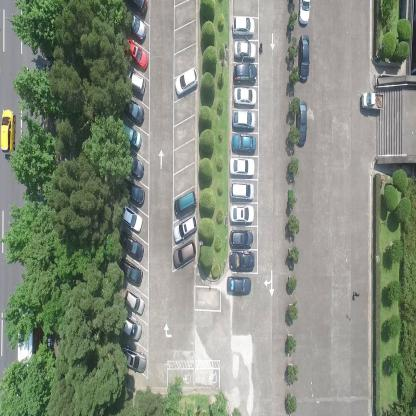car: (125, 35, 149, 71), (119, 344, 147, 374), (119, 254, 143, 287), (119, 231, 144, 261), (174, 65, 198, 96), (125, 65, 147, 98), (173, 238, 197, 268), (119, 203, 143, 233), (0, 106, 15, 154), (173, 213, 197, 242), (123, 96, 145, 126), (122, 150, 144, 180), (228, 155, 256, 178), (120, 312, 142, 341), (295, 98, 308, 146), (298, 32, 310, 84), (123, 178, 145, 206), (121, 122, 142, 151), (126, 12, 146, 42), (229, 249, 255, 272), (123, 288, 145, 315), (228, 182, 256, 203), (232, 14, 255, 38), (232, 132, 256, 155), (234, 62, 258, 84), (230, 202, 254, 224), (233, 38, 256, 60), (174, 189, 196, 212), (361, 92, 385, 113), (232, 86, 257, 106), (232, 108, 255, 129), (226, 276, 251, 295), (230, 229, 254, 248), (126, 0, 148, 18), (297, 0, 311, 26)
